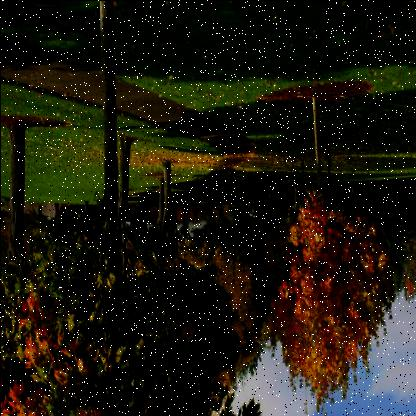Tree: (35, 1, 186, 415), (260, 91, 394, 411), (1, 115, 91, 415), (134, 158, 238, 416), (188, 183, 256, 378), (164, 189, 200, 333), (377, 180, 415, 305), (246, 180, 294, 274), (145, 172, 176, 304)
